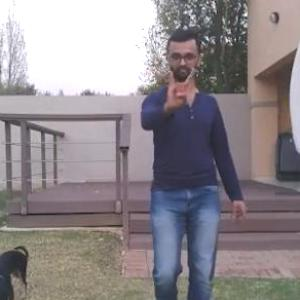takeoff-hand: (160, 61, 198, 113)
